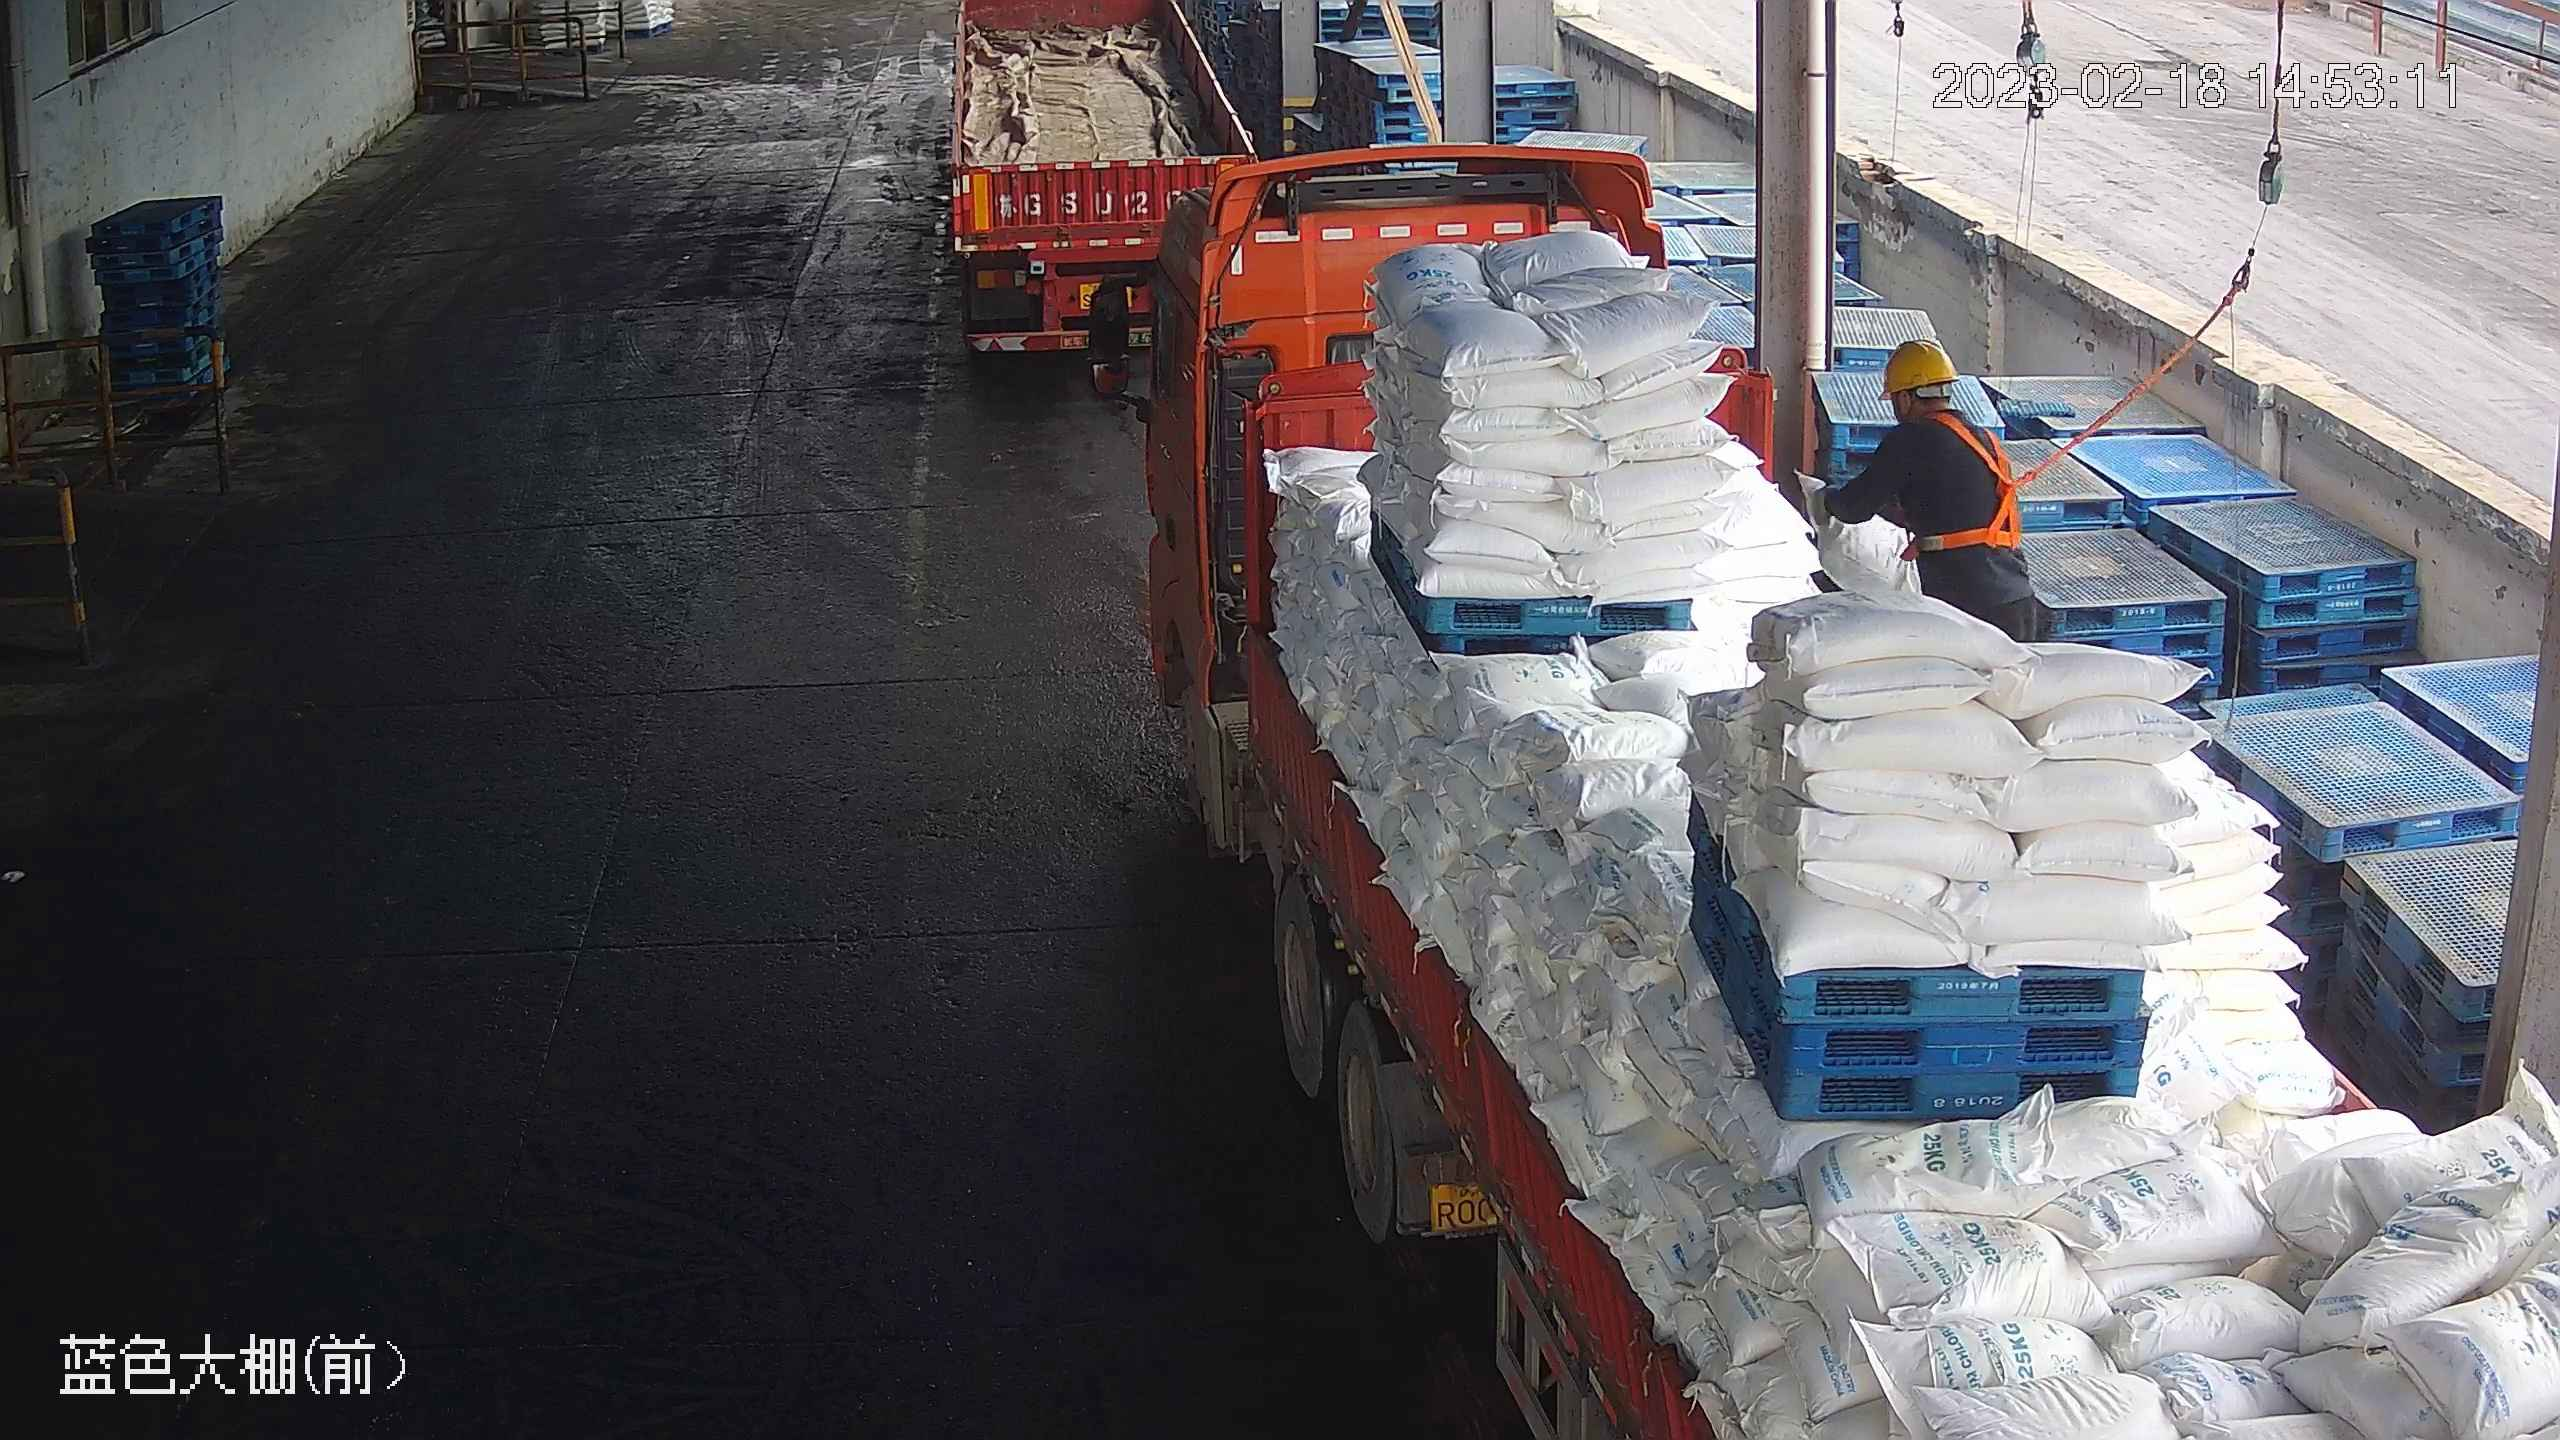belt: (1909, 410, 2033, 556)
head: (1869, 336, 2015, 480)
helmet: (1877, 334, 1957, 395)
people: (1812, 335, 2051, 656)
truck: (1104, 155, 2560, 1437), (913, 1, 1296, 340)
